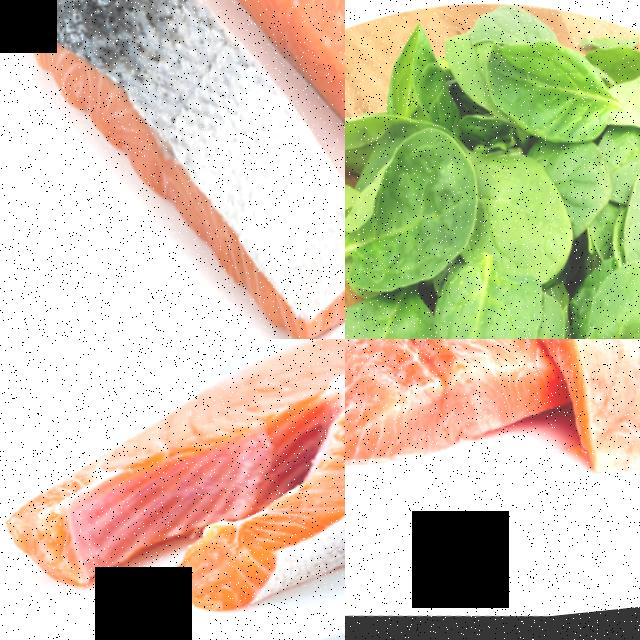salmon: (0, 339, 345, 640), (0, 0, 221, 209), (159, 115, 345, 339), (345, 339, 486, 498)
spinach: (345, 131, 483, 294), (475, 42, 613, 154), (461, 155, 572, 277), (406, 259, 541, 339), (555, 260, 640, 339), (345, 290, 429, 339), (604, 189, 640, 274)
